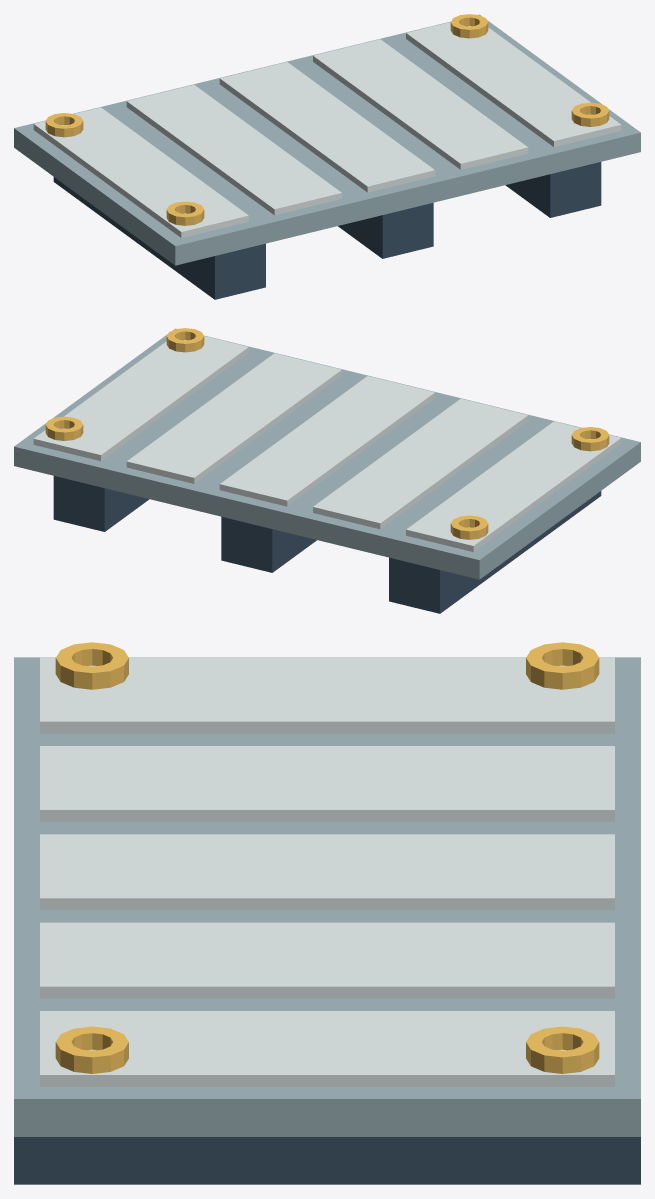
File: orbital-field-station-tie-down-cargo-pallet__160.glb
The picture shows the model from 3 angles, top to bottom: view 1: azimuth 30°, elevation 25°; view 2: azimuth 150°, elevation 25°; view 3: azimuth 270°, elevation 25°; orthographic projection. The views are drawn at different scales.
Parts seen in each view (by area): view 1: shell, metal, dark, warning; view 2: shell, metal, dark, warning; view 3: shell, metal, dark, warning.
Boxes of the visible parts, box(x1,y1,x2,y2) form: shell: box(33, 22, 621, 237); metal: box(14, 14, 640, 265); dark: box(53, 162, 601, 299); warning: box(45, 14, 609, 225); shell: box(33, 336, 621, 551); metal: box(14, 328, 640, 579); dark: box(53, 476, 601, 613); warning: box(45, 328, 609, 539); shell: box(40, 657, 614, 1086); metal: box(14, 657, 640, 1136); dark: box(14, 1137, 640, 1184); warning: box(55, 642, 599, 1073).
Size of the model in its own units: 2 by 0.32 by 1.2.
